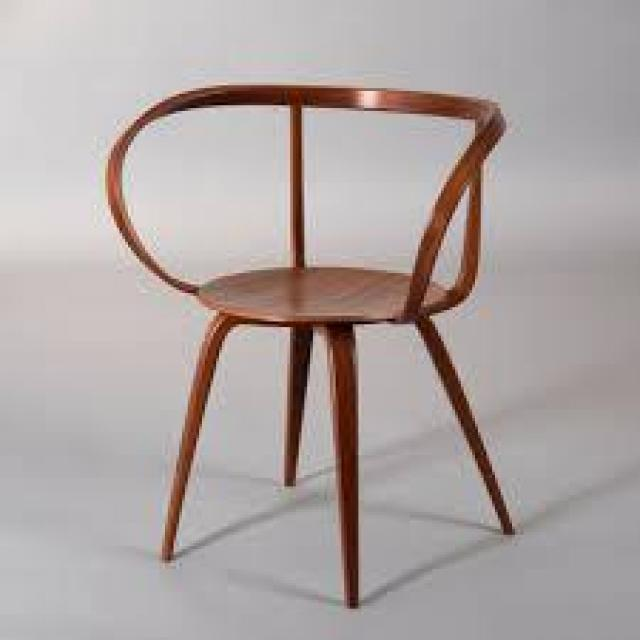chair: (71, 68, 543, 618)
